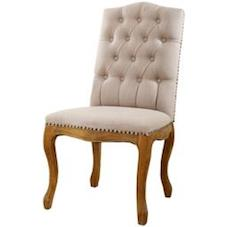chair: (17, 4, 200, 223)
